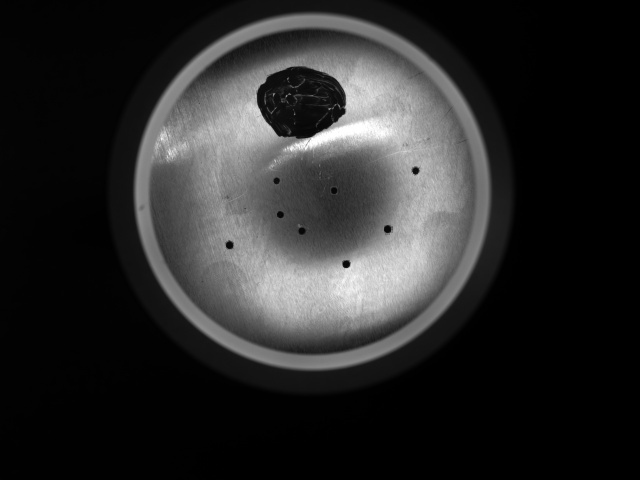zang_wu: (247, 63, 357, 144)
zhen_kong: (288, 211, 320, 252), (216, 231, 243, 260), (266, 202, 295, 227), (324, 180, 350, 206), (375, 217, 400, 244), (334, 254, 362, 278), (405, 159, 430, 183), (265, 170, 289, 194)
